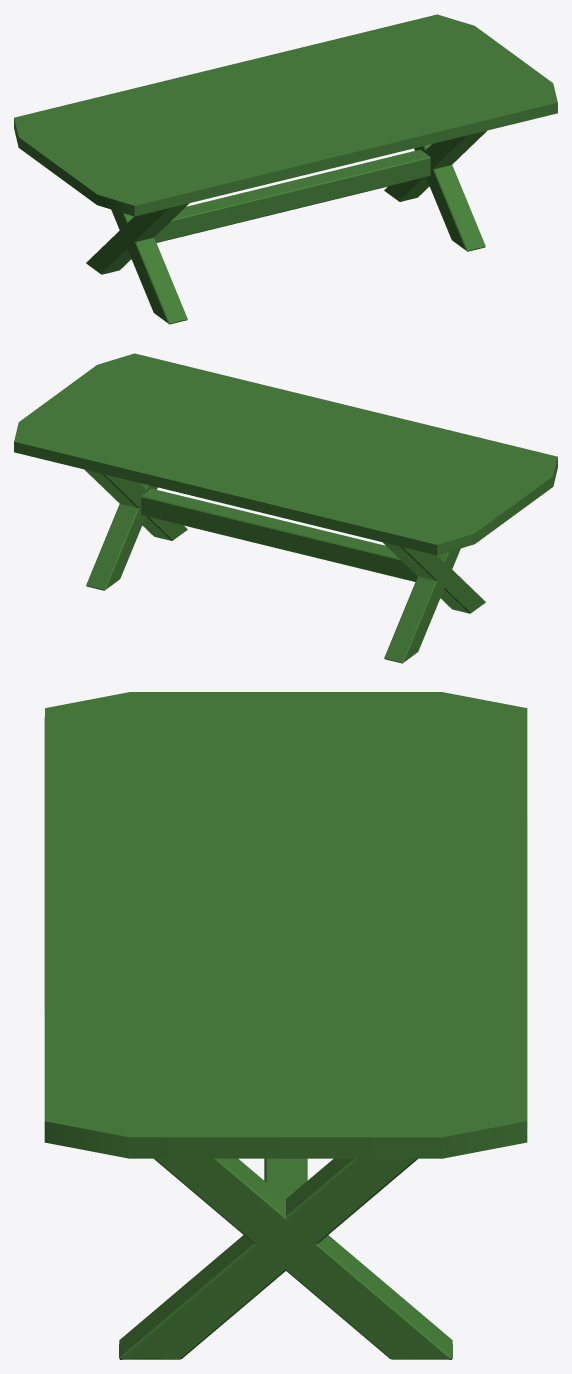
Rendered from Table.fbx.
The picture shows the model from 3 angles, top to bottom: view 1: azimuth 30°, elevation 25°; view 2: azimuth 150°, elevation 25°; view 3: azimuth 270°, elevation 25°; orthographic projection. The views are drawn at different scales.
Parts seen in each view (by area): view 1: Table, TableStick, TableLeg4, TableLeg1, TableLeg3, TableLeg2; view 2: Table, TableStick, TableLeg3, TableLeg2, TableLeg4, TableLeg1; view 3: Table, TableLeg2, TableLeg1, TableStick.
Boxes of the visible parts, x1,y1,x2,y2 form: Table: (14, 14, 557, 216); TableStick: (154, 149, 430, 242); TableLeg4: (111, 209, 187, 324); TableLeg1: (414, 144, 485, 251); TableLeg3: (86, 203, 188, 274); TableLeg2: (384, 130, 486, 201); Table: (14, 353, 557, 555); TableStick: (141, 488, 417, 581); TableLeg3: (384, 548, 460, 663); TableLeg2: (86, 483, 157, 590); TableLeg4: (383, 542, 485, 613); TableLeg1: (85, 469, 187, 540); Table: (44, 692, 527, 1158); TableLeg2: (154, 1158, 452, 1359); TableLeg1: (119, 1158, 417, 1359); TableStick: (264, 1158, 307, 1198).
Bounding box in the file's own units: 6.22 × 1.9 × 2.85.
